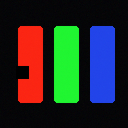1 square: (16, 66, 28, 78)
